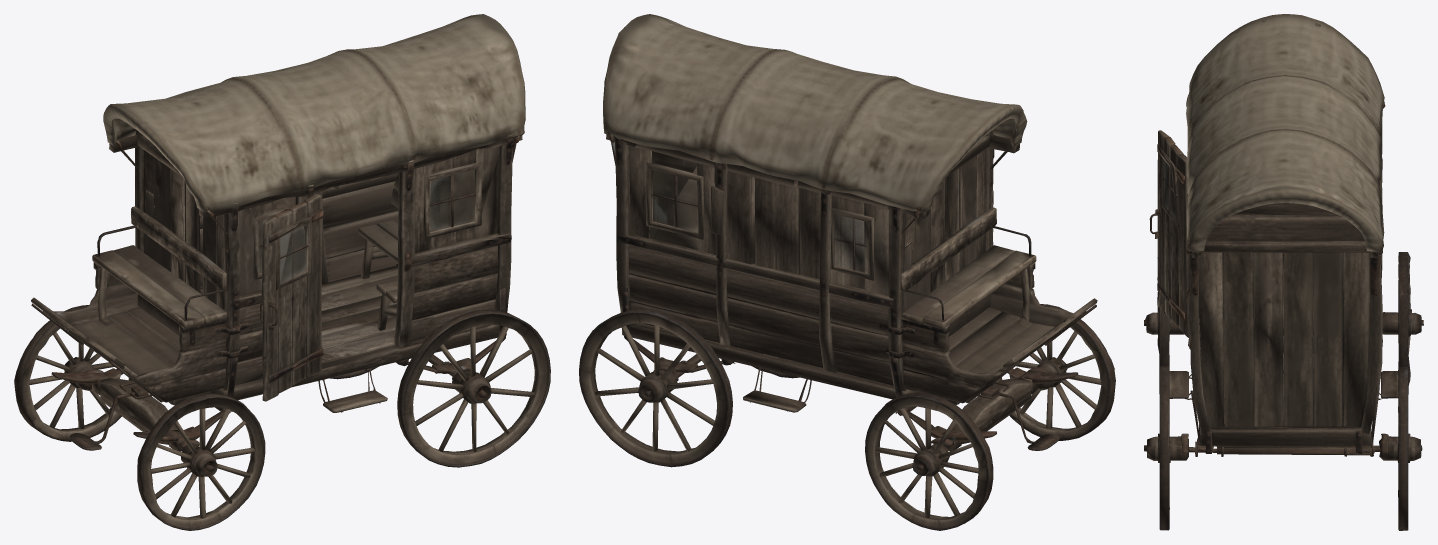
The model's file is Carroça.glb.
3 views of the same model, side by side, from view 1: azimuth 30°, elevation 25°; view 2: azimuth 150°, elevation 25°; view 3: azimuth 270°, elevation 25° (orthographic).
Bounding box in the file's own units: 0.9507 × 0.8022 × 0.5435.
Materials: 1 (1 with a texture image).
